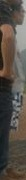boots: (18, 153, 26, 161), (21, 142, 26, 150)
ppe-suit: (0, 17, 13, 180)
